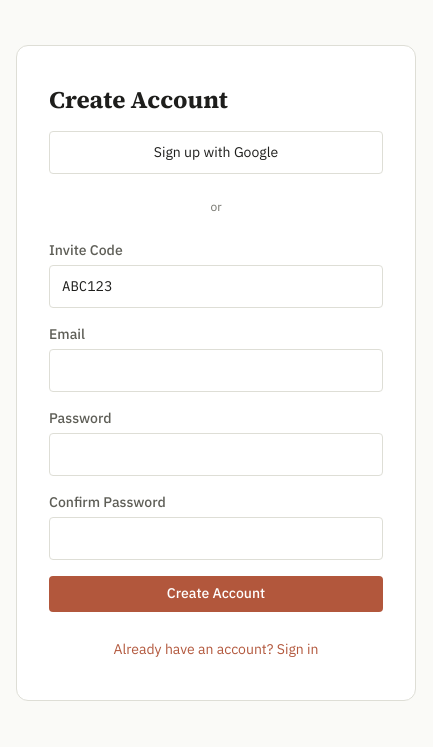
Register › shows error message when register API rejects
Step 1. Type "new@example.com" into the field labelled "Email" → (216, 371), box [49,349,383,392]
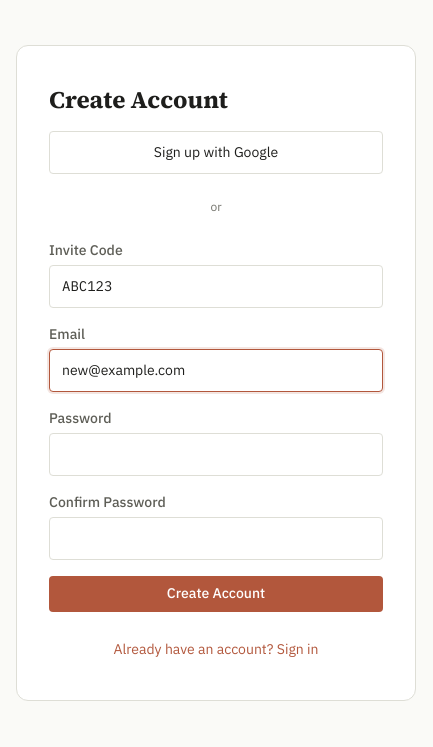
Step 2. Type "securepassword" into the password field labelled "Password" → (216, 455), box [49,433,383,476]
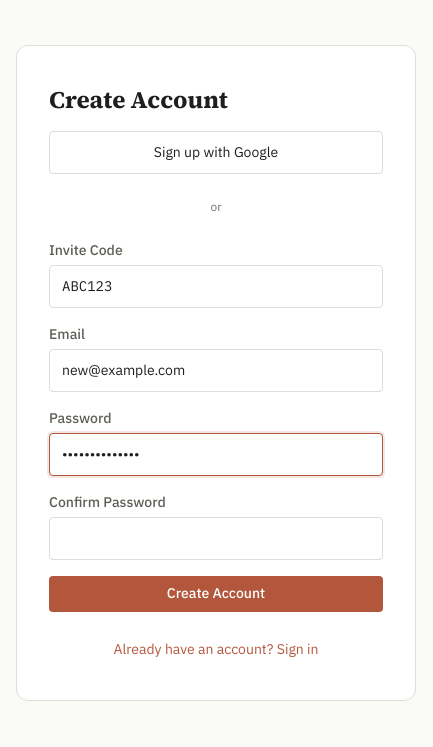
Step 3. Type "securepassword" into the password field labelled "Confirm Password" → (216, 539), box [49,517,383,560]
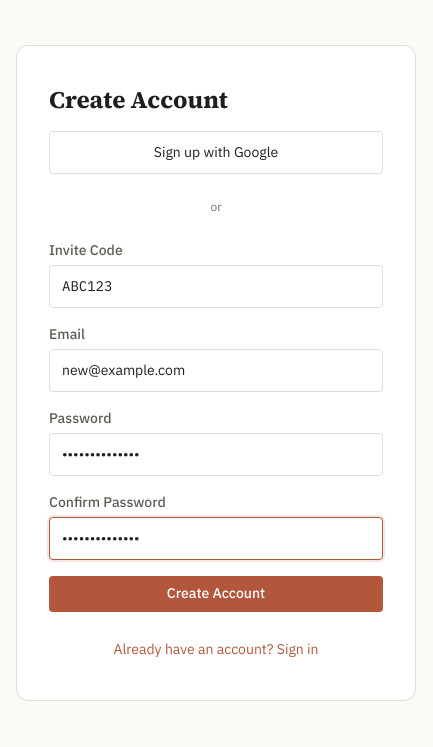
Step 4. Click the button "Create Account" → (216, 594), box [49,576,383,612]
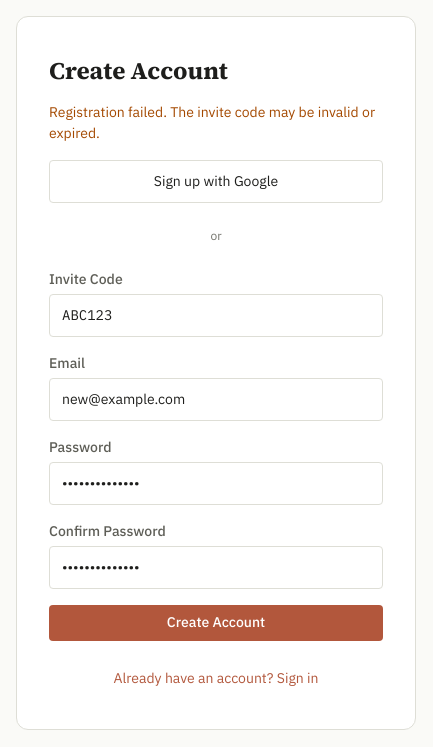
Result: the text "Registration failed" is shown at [49,103,375,142]
